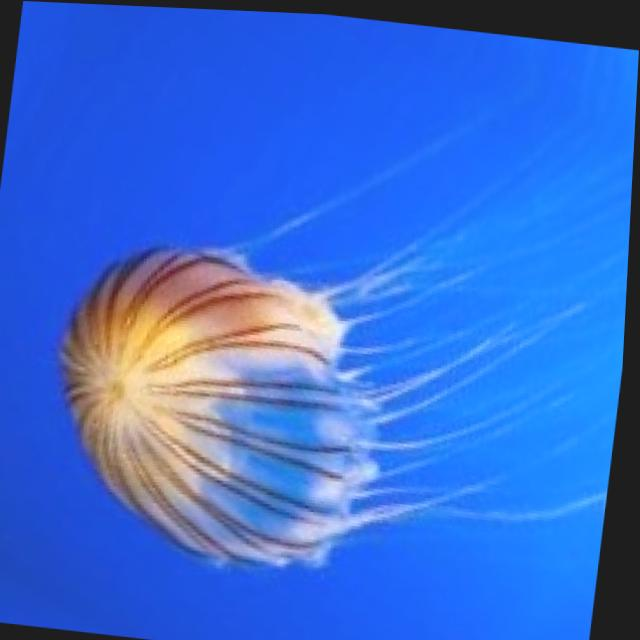Jellyfish: (3, 138, 524, 640)
